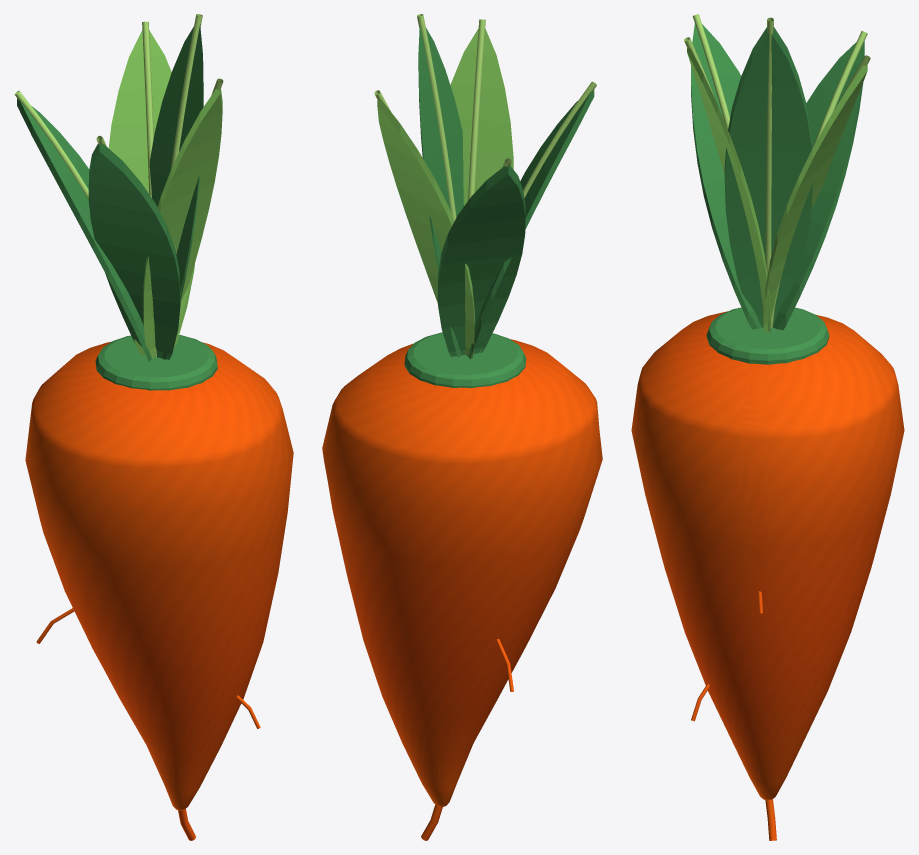
Rendered from carrot.glb.
3 renders of one model, left to right at view 1: azimuth 30°, elevation 25°; view 2: azimuth 150°, elevation 25°; view 3: azimuth 270°, elevation 25°, orthographic.
Visible parts, largest first — view 1: continuous-curved-carrot-root, five-lanceolate-leaf-blades, deep-green-embedded-leaf-crown, five-readable-leaf-veins; view 2: continuous-curved-carrot-root, five-lanceolate-leaf-blades, deep-green-embedded-leaf-crown, five-readable-leaf-veins; view 3: continuous-curved-carrot-root, five-lanceolate-leaf-blades, deep-green-embedded-leaf-crown, five-readable-leaf-veins.
Part boxes in pixels (x1,y1,x2,y2): continuous-curved-carrot-root: [25, 341, 293, 810]; five-lanceolate-leaf-blades: [17, 24, 222, 361]; deep-green-embedded-leaf-crown: [95, 335, 217, 390]; five-readable-leaf-veins: [14, 14, 223, 357]; continuous-curved-carrot-root: [322, 339, 602, 806]; five-lanceolate-leaf-blades: [377, 24, 594, 359]; deep-green-embedded-leaf-crown: [404, 332, 526, 388]; five-readable-leaf-veins: [374, 14, 596, 354]; continuous-curved-carrot-root: [631, 311, 904, 800]; five-lanceolate-leaf-blades: [687, 23, 867, 333]; deep-green-embedded-leaf-crown: [706, 307, 829, 364]; five-readable-leaf-veins: [684, 14, 870, 328].
Size of the model in its own units: 0.3063 by 1 by 0.2995.
5 materials, 1 textured.
